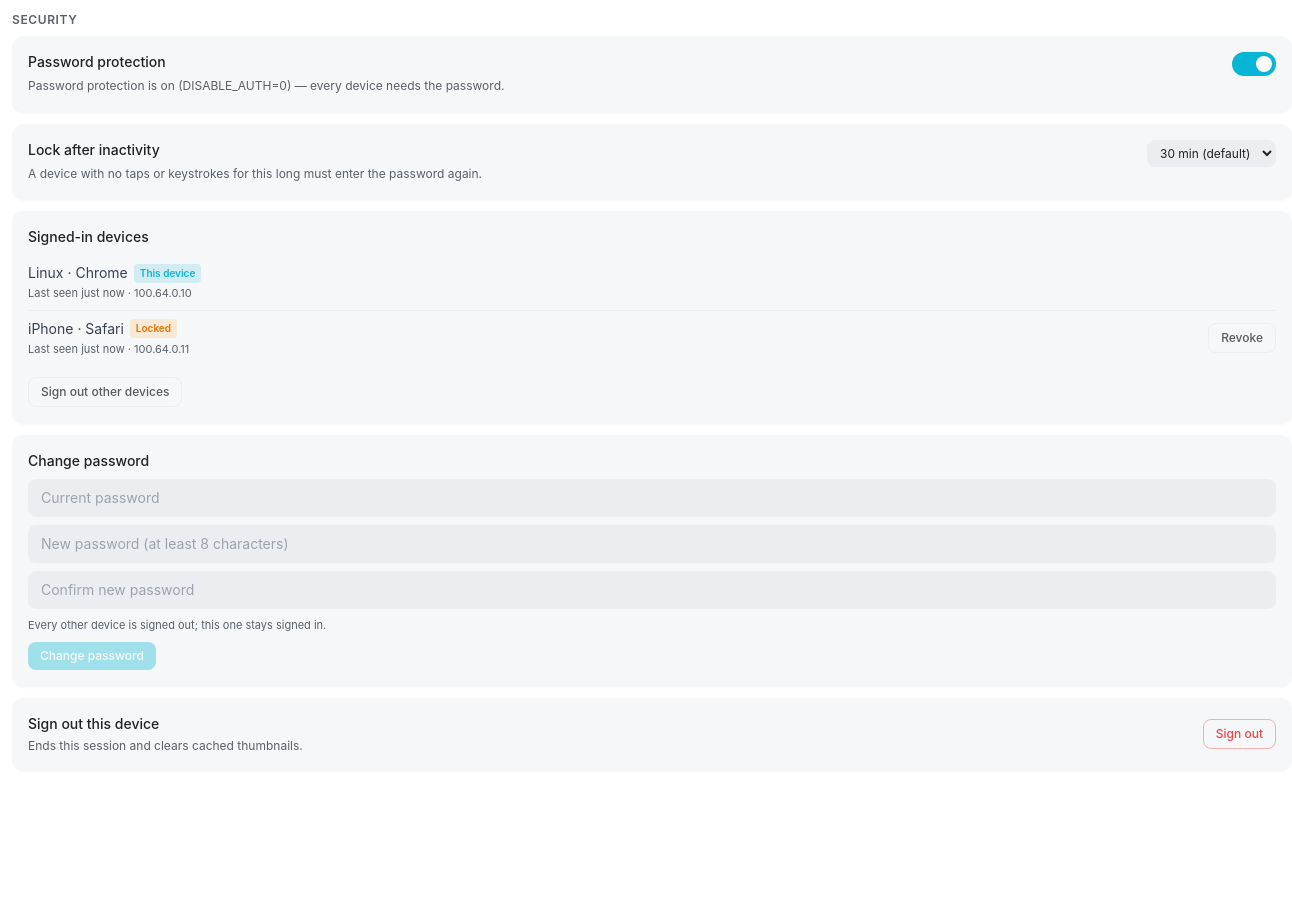
SecuritySettings › change password: client-side checks, no request
Check: the list with test id "device-list" is shown, box [28,255,1276,365]
Type "old-password" into the password field labelled "Current password" at (652, 498), box [28,479,1276,517]
Type "short" into the password field labelled "New password" at (652, 544), box [28,525,1276,563]
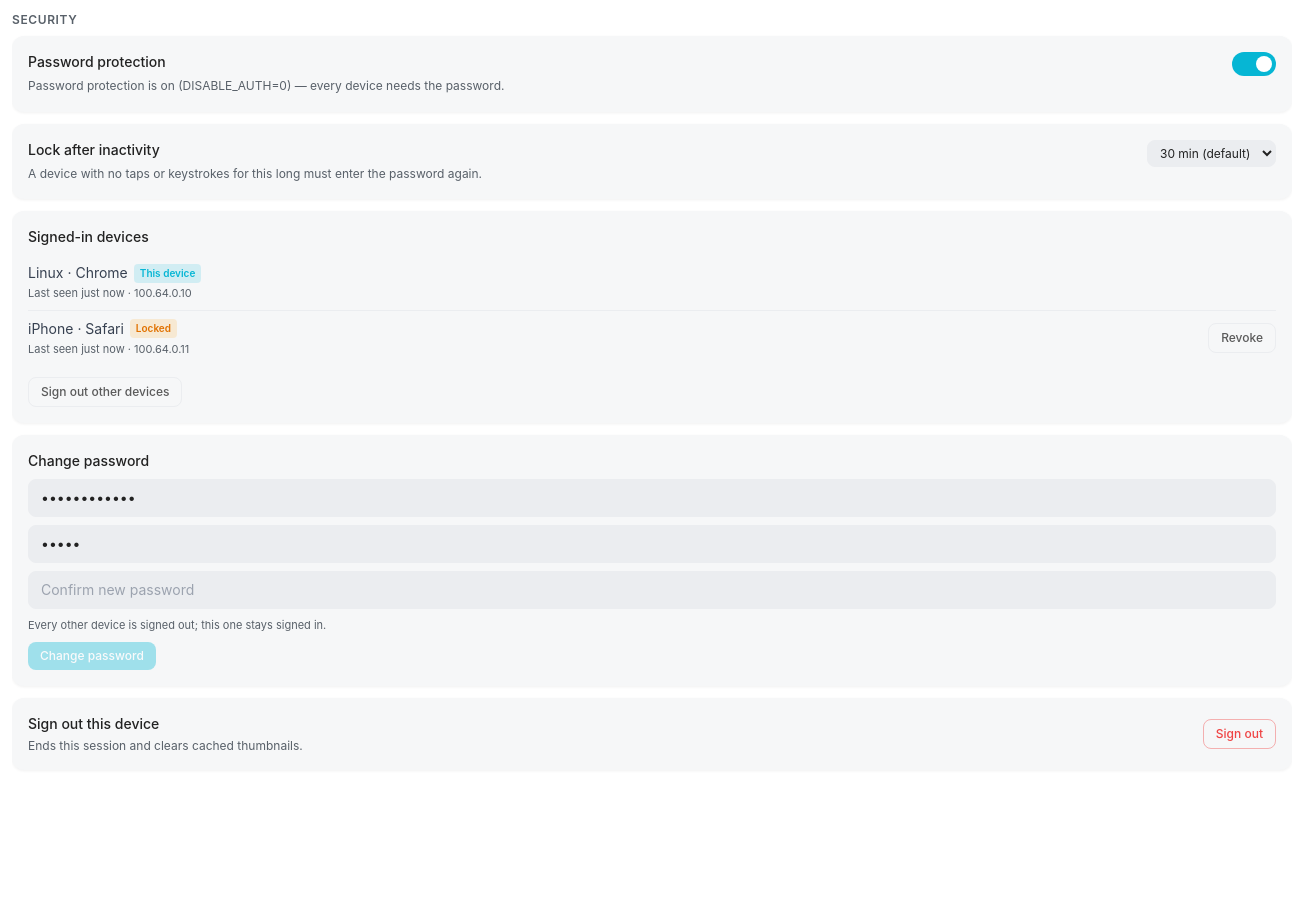
Type "short" into the password field labelled "Confirm new password" at (652, 590), box [28,571,1276,609]
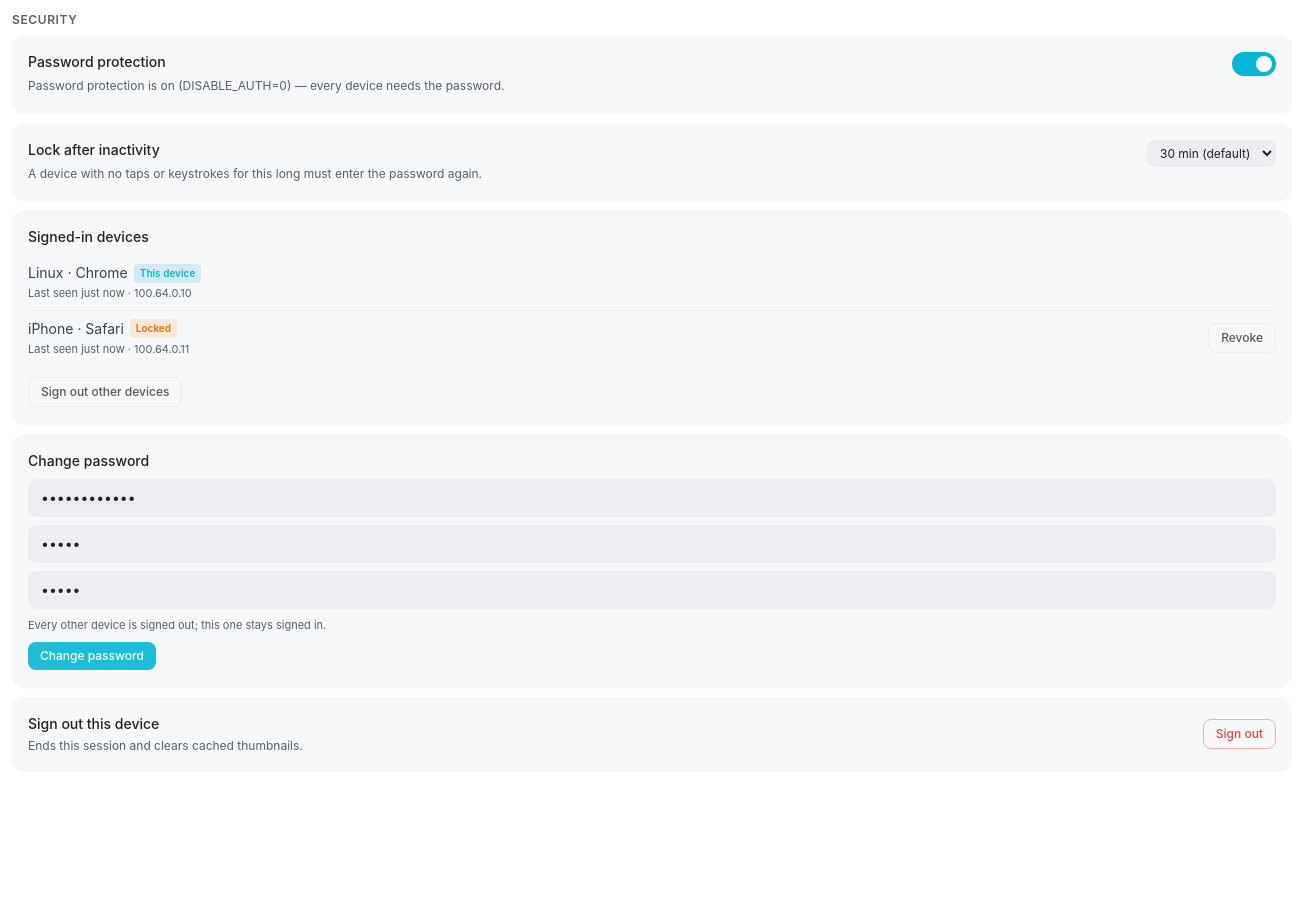
Click the button "Change password" at (92, 656), box [28,642,156,670]
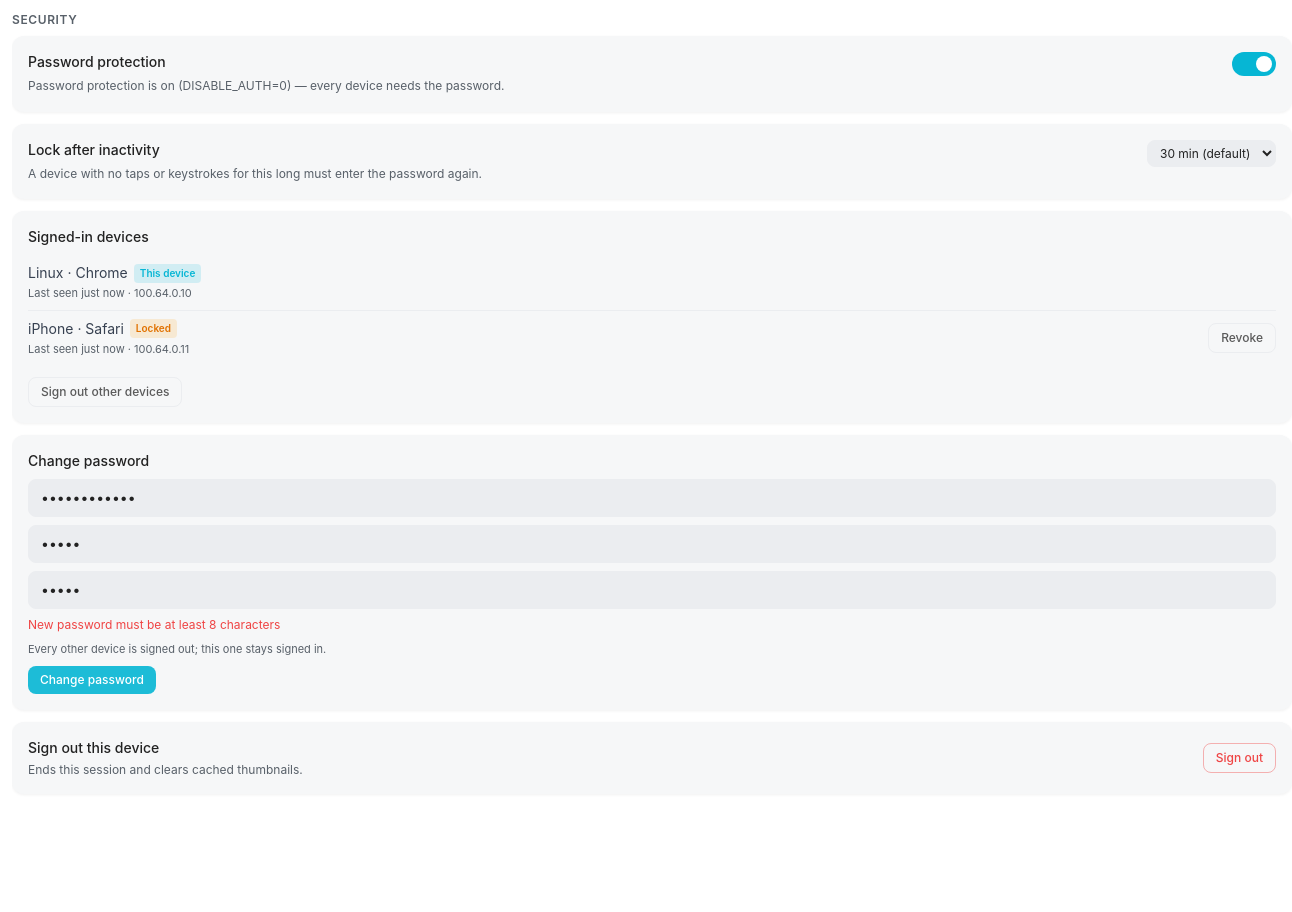
Check: the text "New password must be at least 8 characters" is shown, box [28,617,280,632]
Type "long-enough-1" into the password field named "New password" at (652, 544), box [28,525,1276,563]
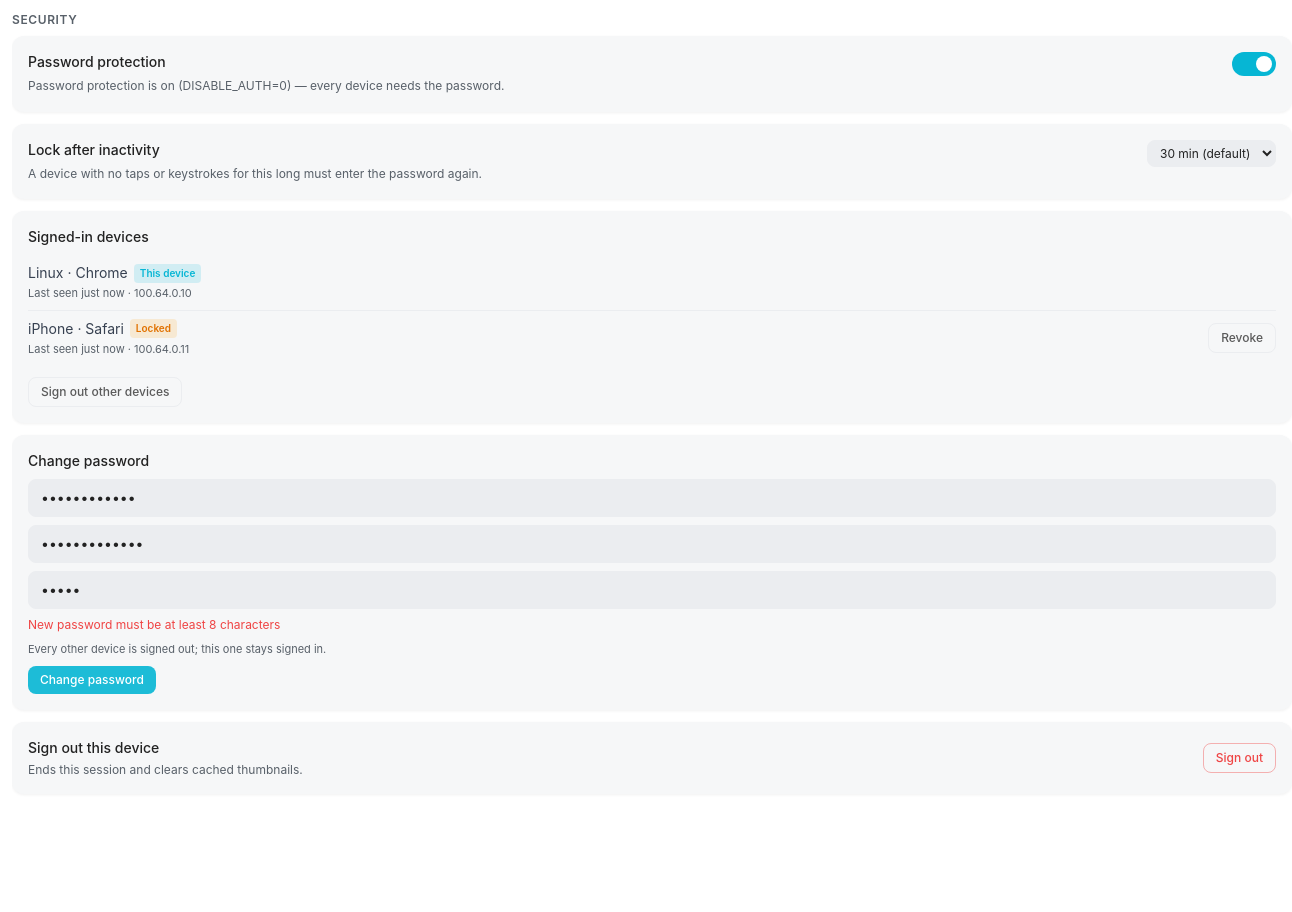
Type "long-enough-2" into the password field named "Confirm new password" at (652, 590), box [28,571,1276,609]
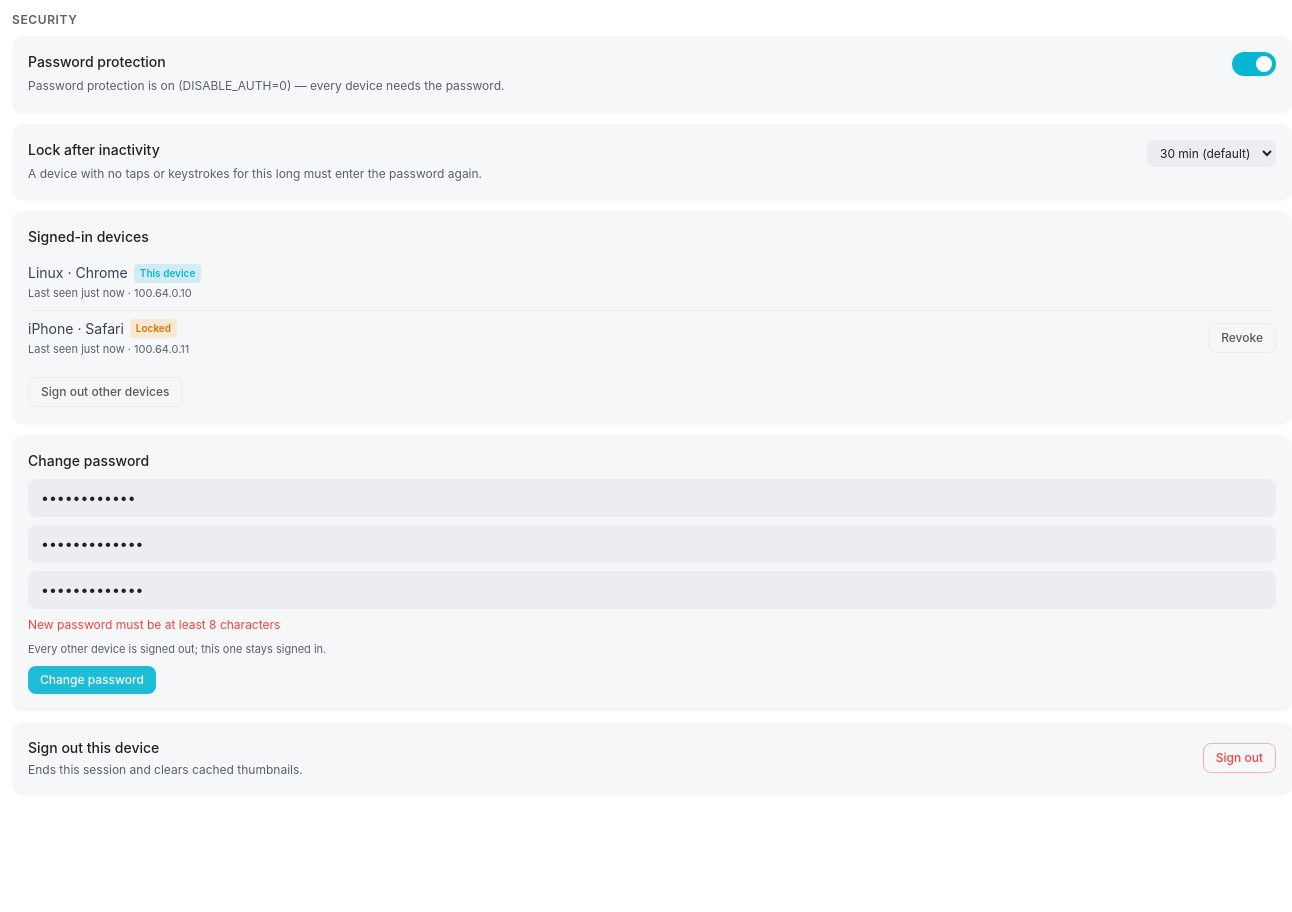
Click the button "Change password" at (92, 680), box [28,666,156,694]
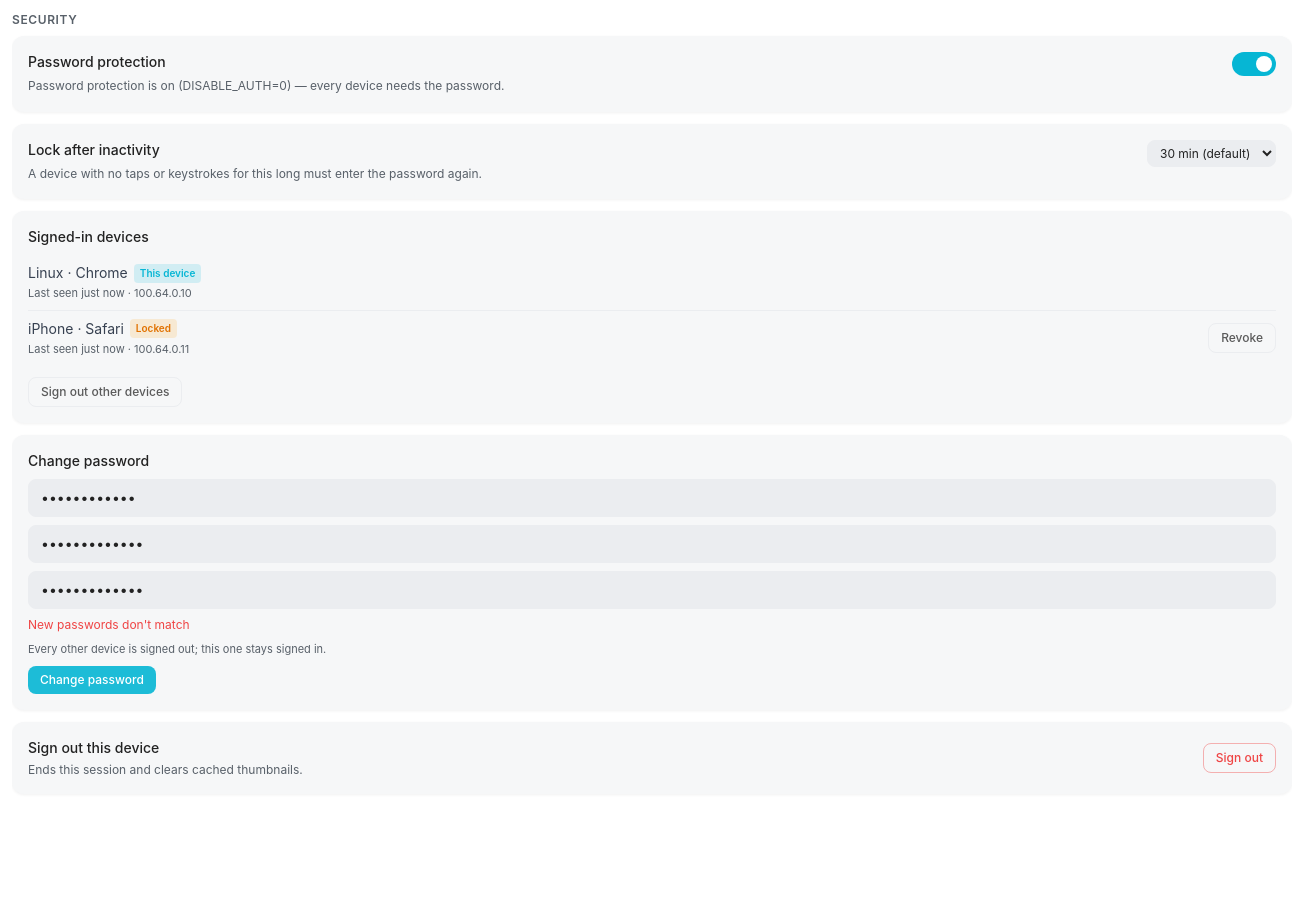
Check: the text "New passwords don't match" is shown, box [28,617,190,632]
